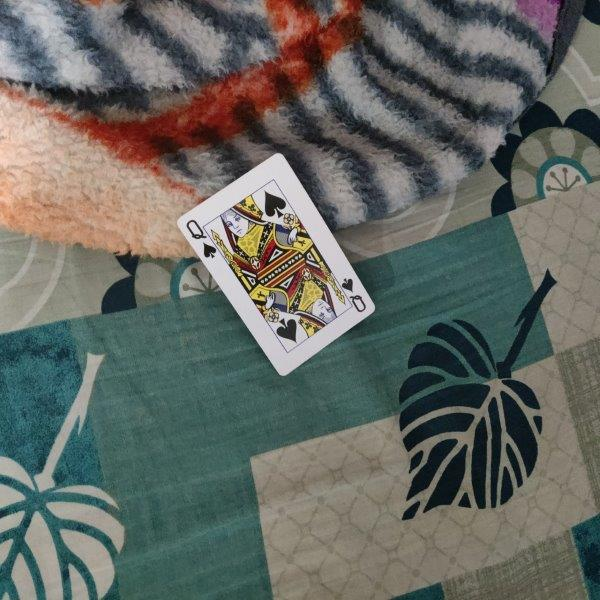Queen of Spades: (177, 152, 377, 377)
